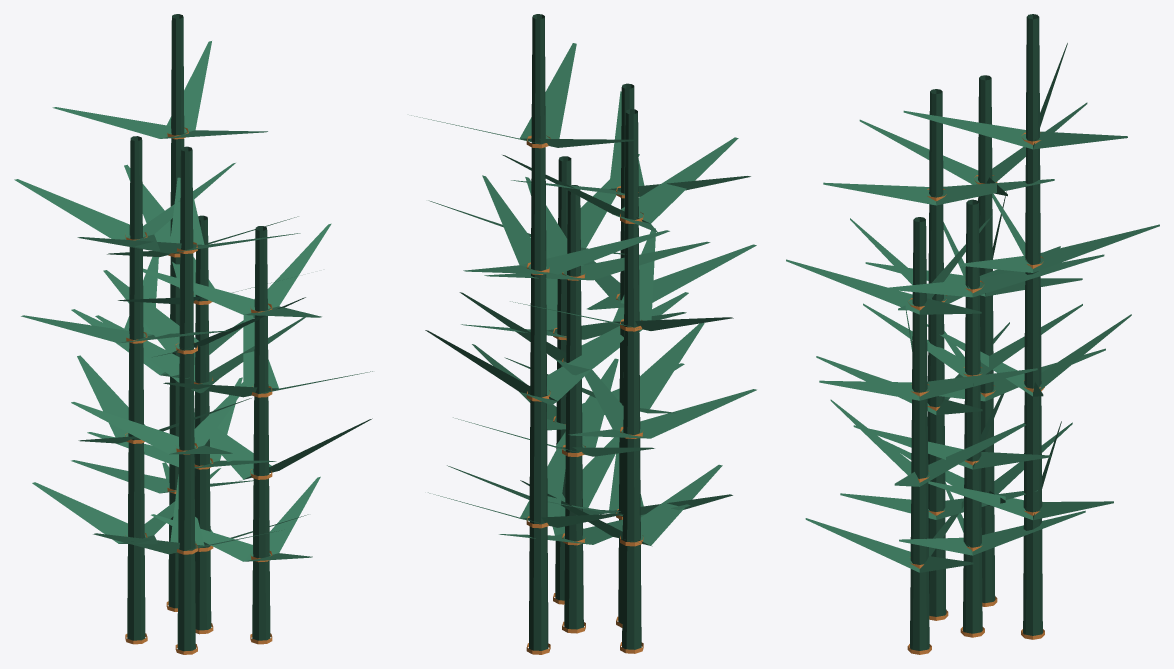
The model's file is moonfall_sacred_bamboo.obj.
3 views of the same model, side by side, from view 1: azimuth 30°, elevation 25°; view 2: azimuth 150°, elevation 25°; view 3: azimuth 270°, elevation 25° (orthographic). The views are drawn at different scales.
Parts seen in each view (by area): view 1: moonfall_sacred_bamboo; view 2: moonfall_sacred_bamboo; view 3: moonfall_sacred_bamboo.
Part boxes in pixels (x1,y1,x2,y2): moonfall_sacred_bamboo: (14, 14, 372, 654); moonfall_sacred_bamboo: (411, 14, 756, 654); moonfall_sacred_bamboo: (786, 14, 1159, 654).
Bounding box in the file's own units: 8.38 × 15.8 × 8.66.
